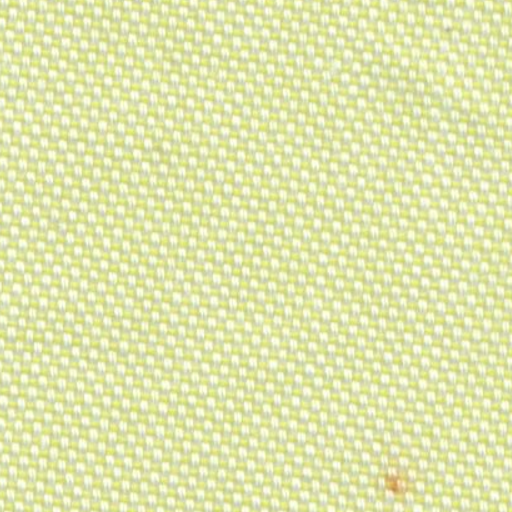WuZi: (357, 450, 441, 502)
